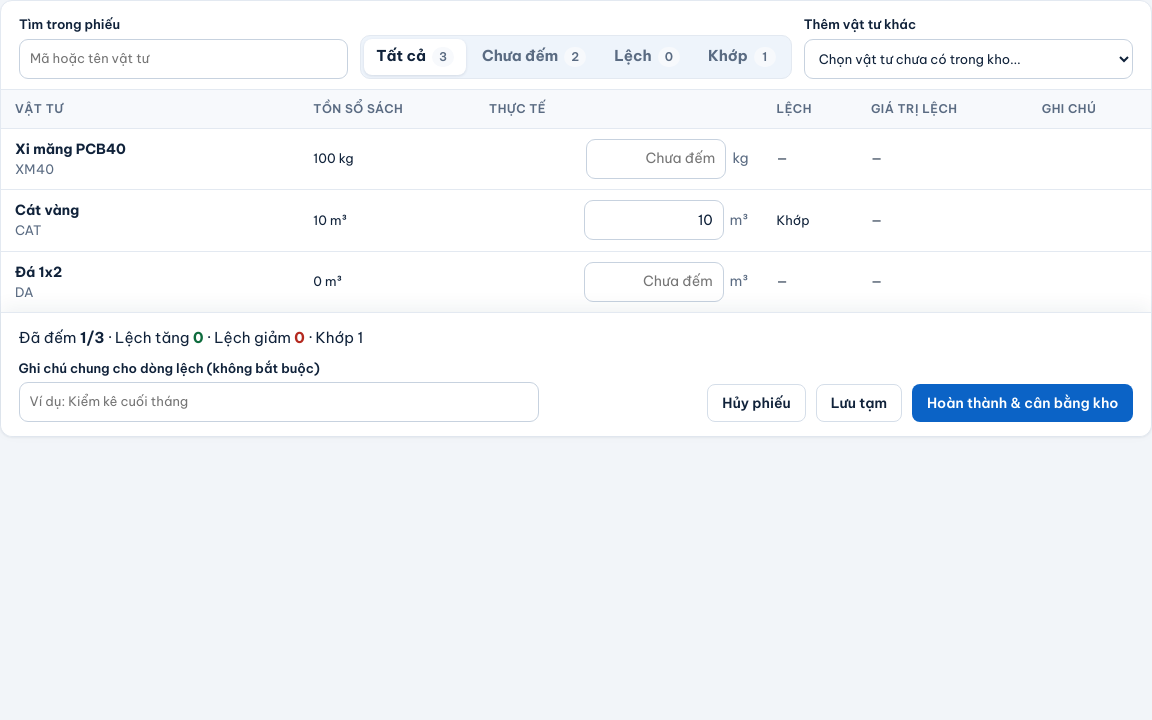
Test: completes after a review and keeps the same command when the outcome is unknown
Step 1. Type "100" into the field named "Thực tế Xi măng PCB40" → (656,159), box [586,139,726,179]
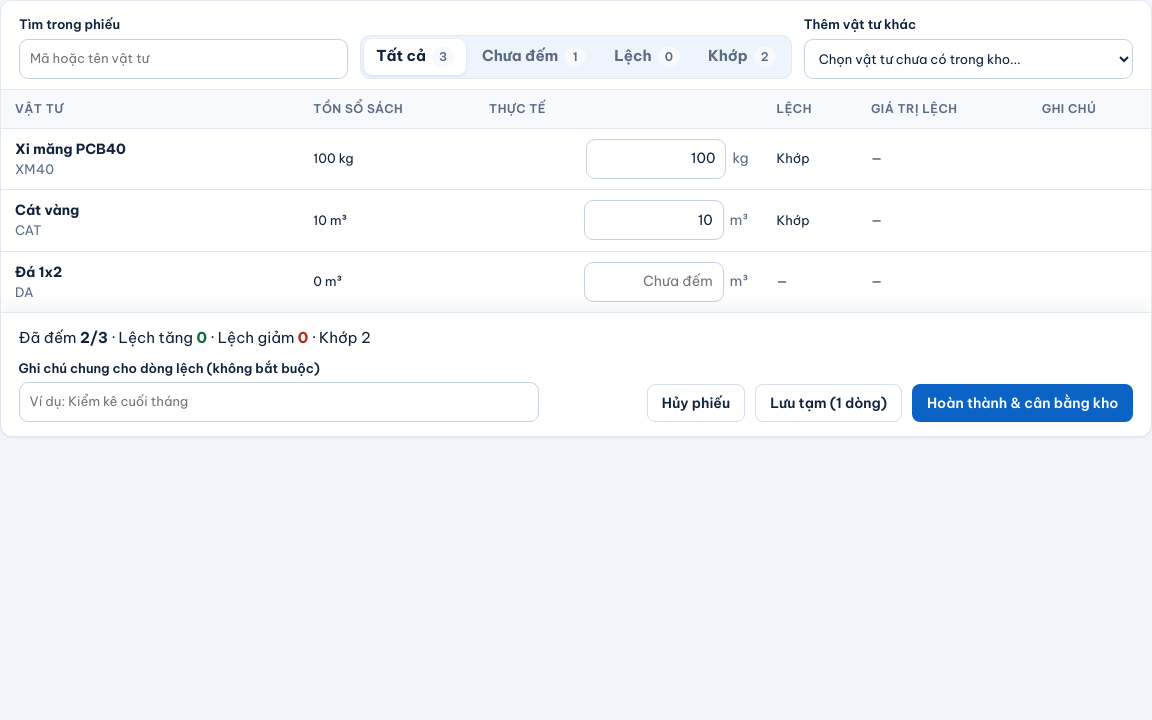
Step 2. Click the button "Hoàn thành & cân bằng kho" → (1023,403), box [912,384,1133,422]
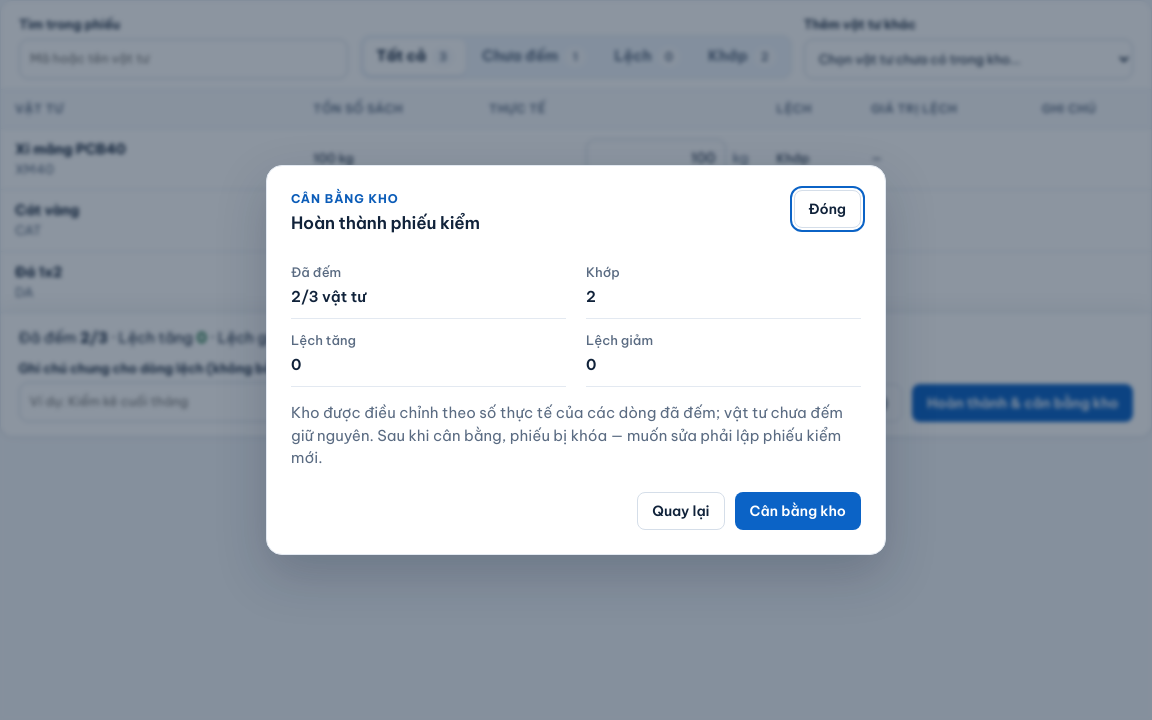
Check: the text "2/3 vật tư" is shown, box [291,287,366,306]
Step 3. Click the button "Cân bằng kho" → (798,511), box [735,492,861,530]
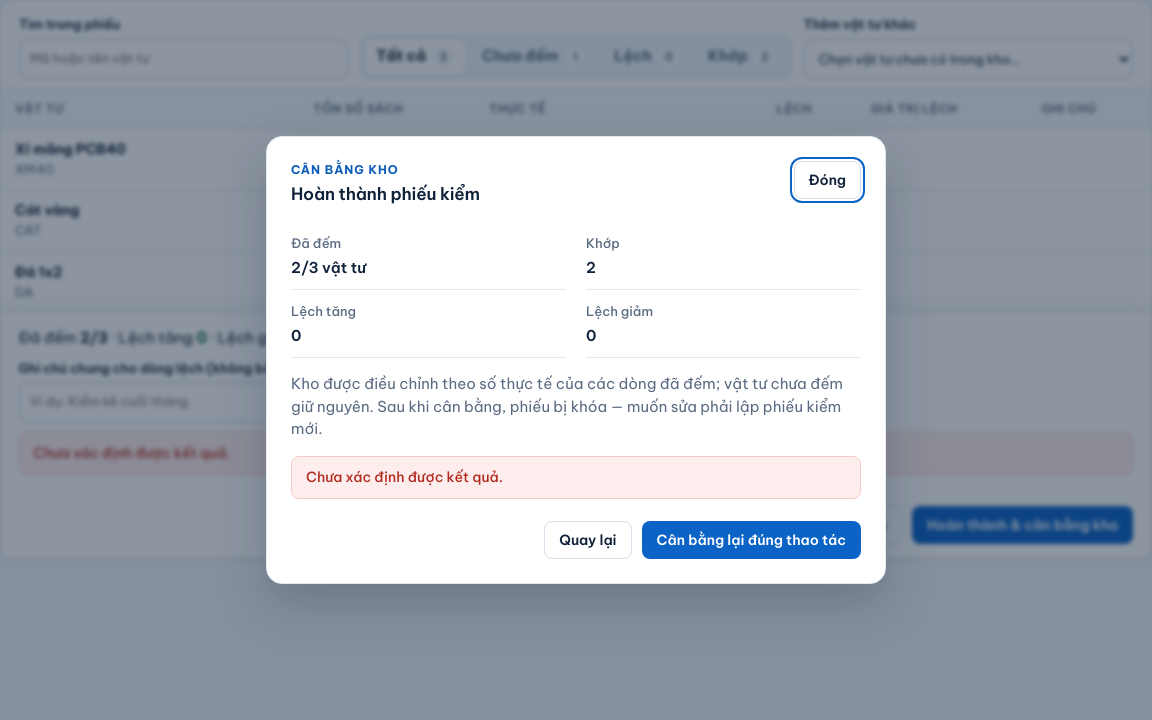
Step 4. Click the button "Cân bằng lại đúng thao tác" → (751,540), box [642,521,861,559]
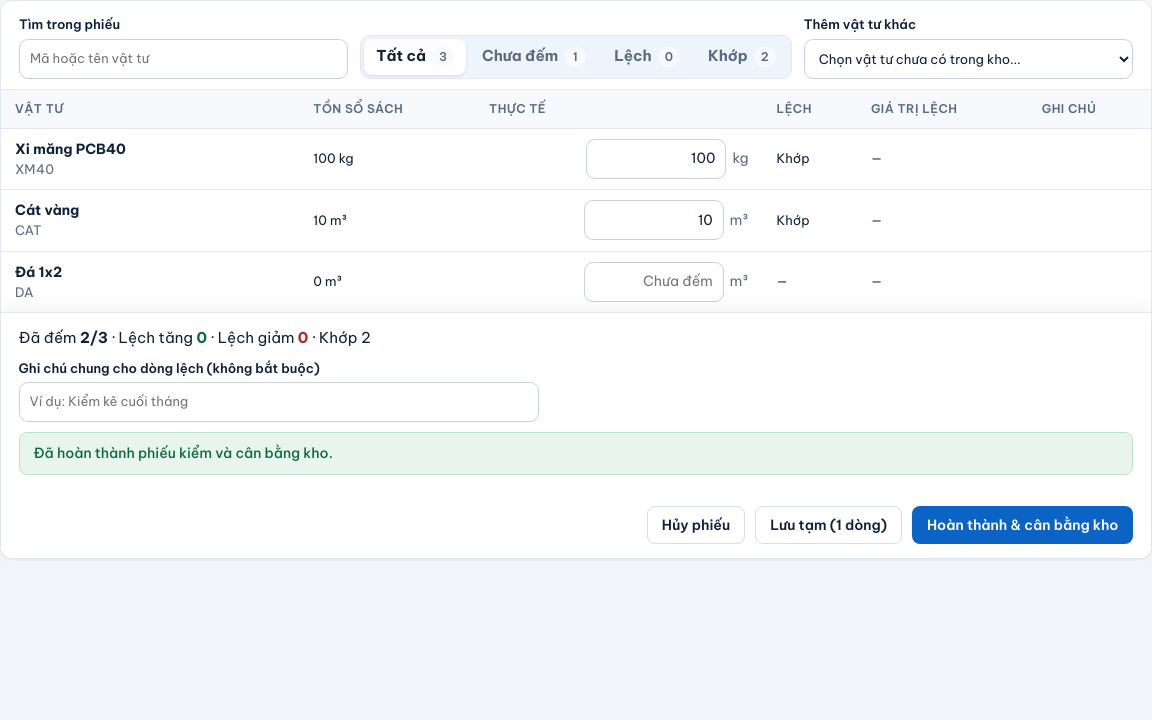
Check: the dialog is gone
